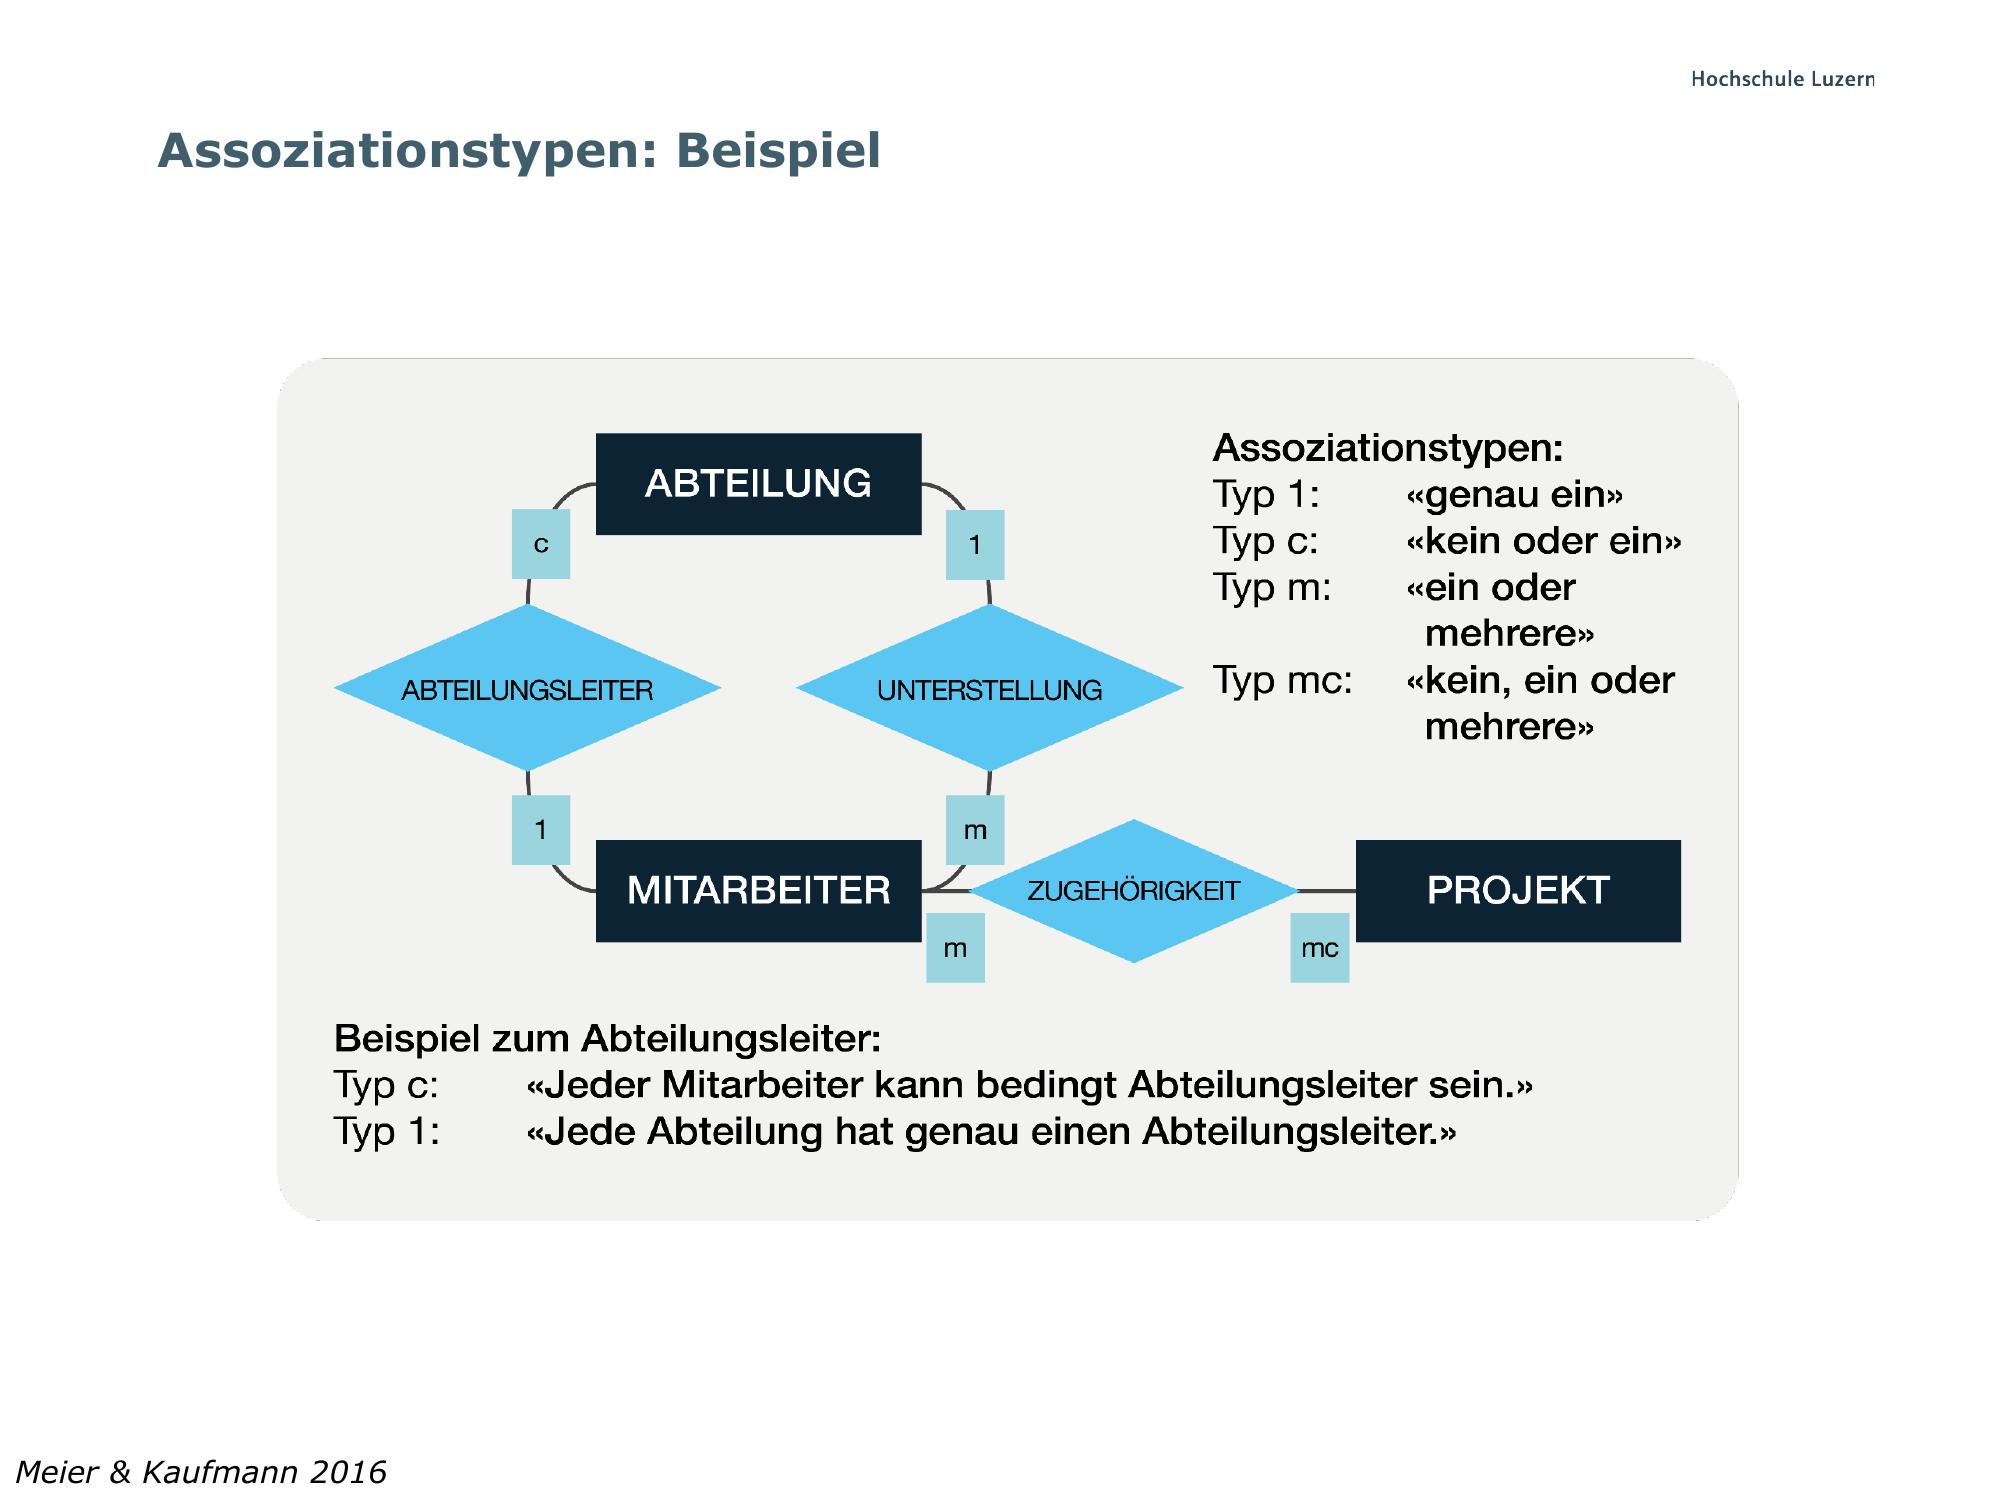Title: (154, 121, 894, 183)
